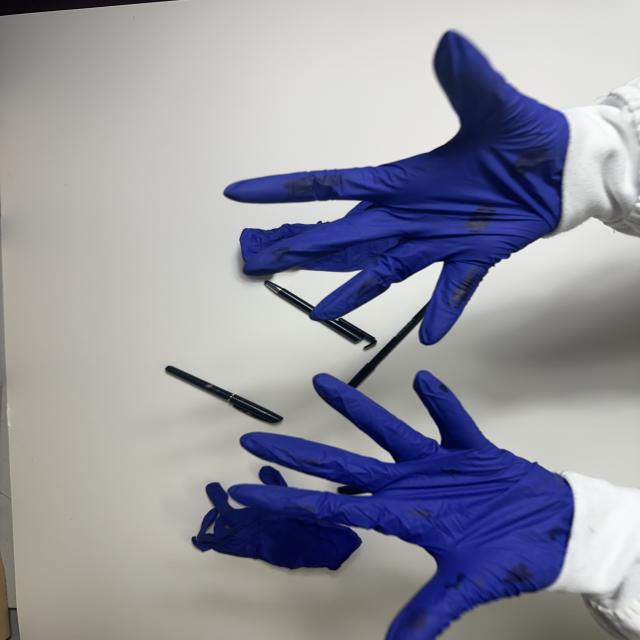gloves_contaminated: (224, 32, 569, 345), (229, 371, 574, 640)
